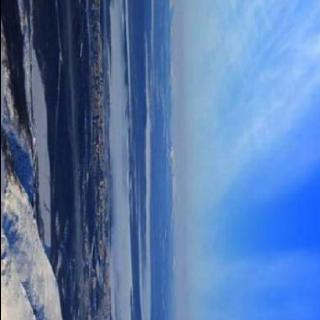Cirrostratus: (154, 0, 320, 320)
